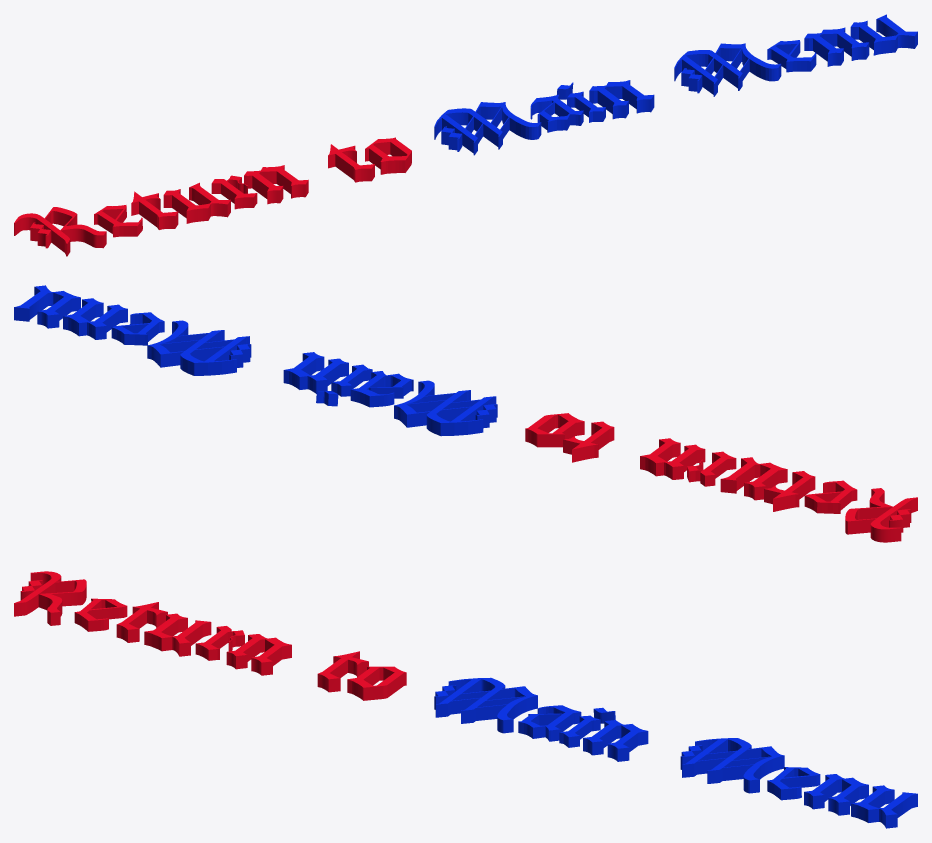
File: return to main menu_low.FBX
3 renders of one model, top to bottom at view 1: azimuth 30°, elevation 25°; view 2: azimuth 150°, elevation 25°; view 3: azimuth 330°, elevation 25°, orthographic. The views are drawn at different scales.
Parts seen in each view (by area): view 1: returntomainmenu_low; view 2: returntomainmenu_low; view 3: returntomainmenu_low.
Boxes of the visible parts, x1,y1,x2,y2 form: returntomainmenu_low: (14, 14, 917, 256); returntomainmenu_low: (14, 285, 917, 542); returntomainmenu_low: (14, 571, 917, 828).
Size of the model in its own units: 2144 by 30 by 180.
